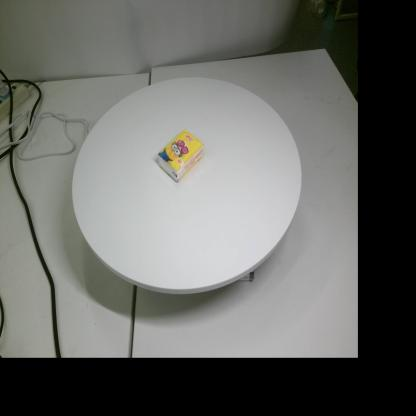Tissue: (158, 130, 205, 182)
